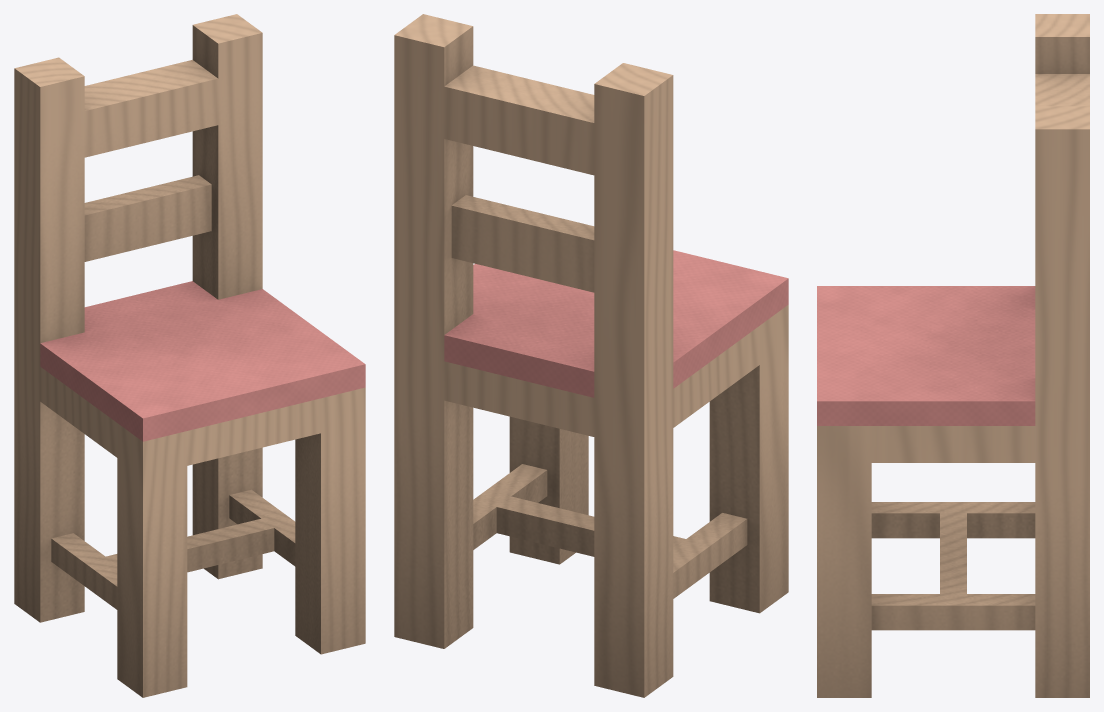
The model's file is chair.glb.
3 renders of one model, left to right at view 1: azimuth 30°, elevation 25°; view 2: azimuth 150°, elevation 25°; view 3: azimuth 270°, elevation 25°, orthographic. The views are drawn at different scales.
Parts seen in each view (by area): view 1: chair; view 2: chair; view 3: chair.
Part boxes in pixels (x1=…): chair: x1=14, y1=14, x2=365, y2=697; chair: x1=394, y1=14, x2=788, y2=697; chair: x1=817, y1=14, x2=1089, y2=697.
Bounding box in the file's own units: 0.4 × 0.92 × 0.4.
2 materials, 2 textured.
